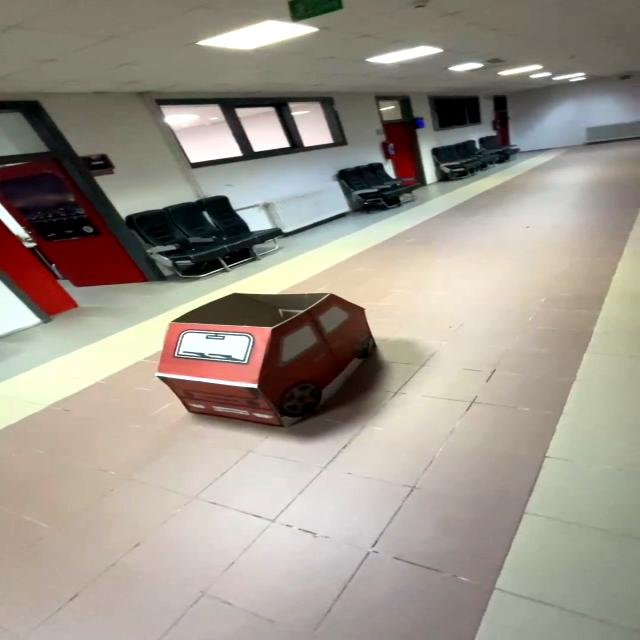red_car: (133, 259, 429, 446)
